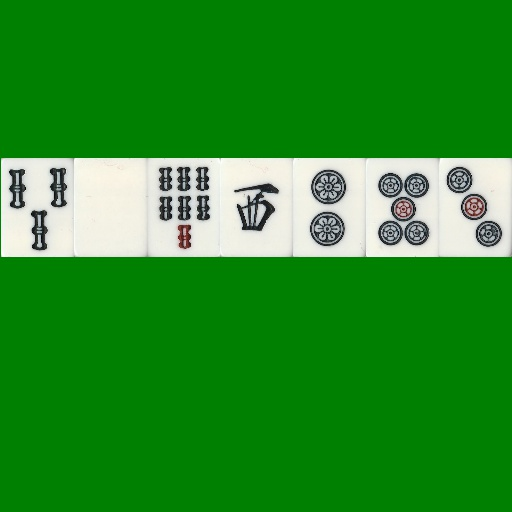2p: (293, 158, 366, 257)
3p: (439, 158, 512, 257)
3s: (1, 158, 74, 257)
5p: (366, 158, 439, 257)
7s: (147, 158, 220, 257)
west: (220, 158, 293, 257)
white: (74, 158, 147, 257)
